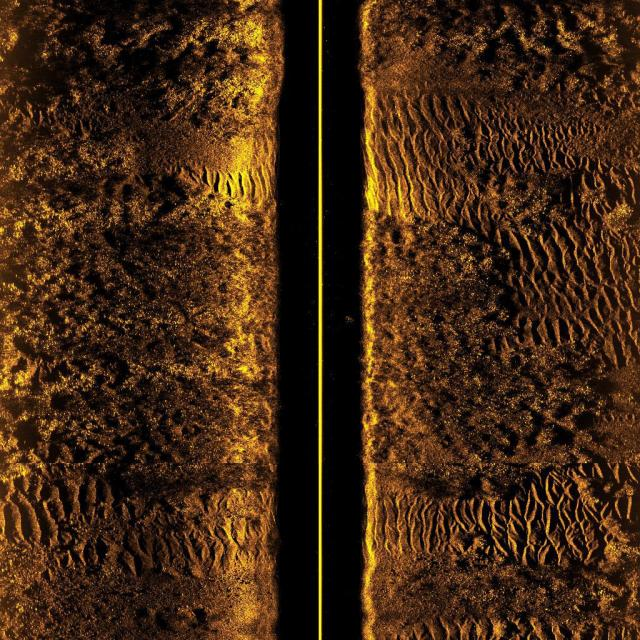mine: (570, 601, 602, 614), (158, 110, 180, 122)
